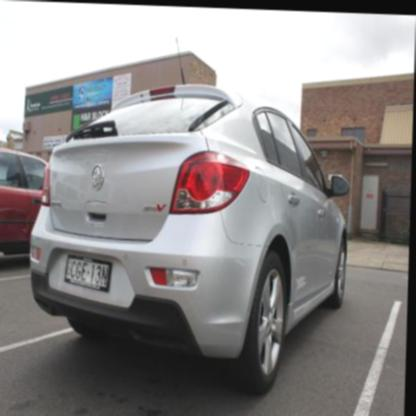License_Plate: (63, 255, 113, 292)
